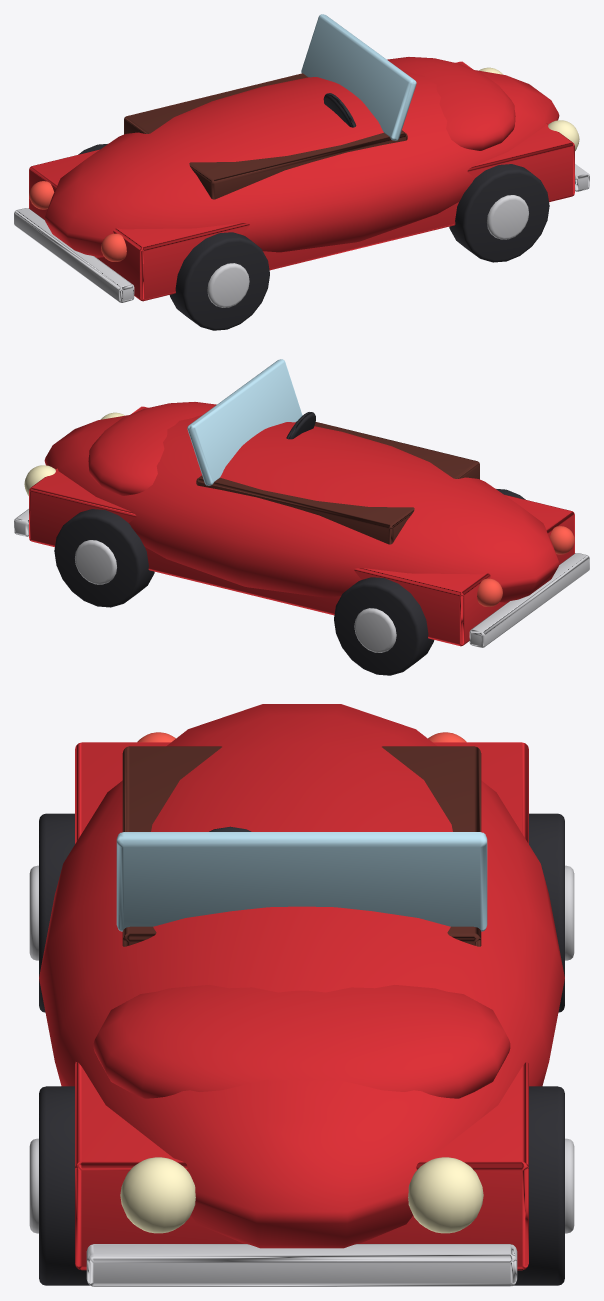
Rendered from carro_redondo.glb.
3 views of the same model, one above another, from view 1: azimuth 30°, elevation 25°; view 2: azimuth 150°, elevation 25°; view 3: azimuth 270°, elevation 25° (orthographic). The views are drawn at different scales.
Visible parts, largest first — view 1: carro_redondo, wheelz_TD, wheelz_FD; view 2: carro_redondo, wheelz_TE, wheelz_FE; view 3: carro_redondo, wheelz_FE, wheelz_FD, wheelz_TE, wheelz_TD.
Part boxes in pixels (x1=…): carro_redondo: x1=14, y1=14, x2=589, y2=302; wheelz_TD: x1=169, y1=232, x2=269, y2=330; wheelz_FD: x1=449, y1=164, x2=549, y2=262; carro_redondo: x1=14, y1=359, x2=589, y2=647; wheelz_TE: x1=334, y1=577, x2=434, y2=675; wheelz_FE: x1=54, y1=509, x2=154, y2=607; carro_redondo: x1=39, y1=704, x2=564, y2=1286; wheelz_FE: x1=514, y1=1086, x2=574, y2=1285; wheelz_FD: x1=29, y1=1086, x2=89, y2=1285; wheelz_TE: x1=529, y1=813, x2=574, y2=1012; wheelz_TD: x1=29, y1=813, x2=74, y2=1012.
Size of the model in its own units: 4.75 by 1.71 by 2.28.
